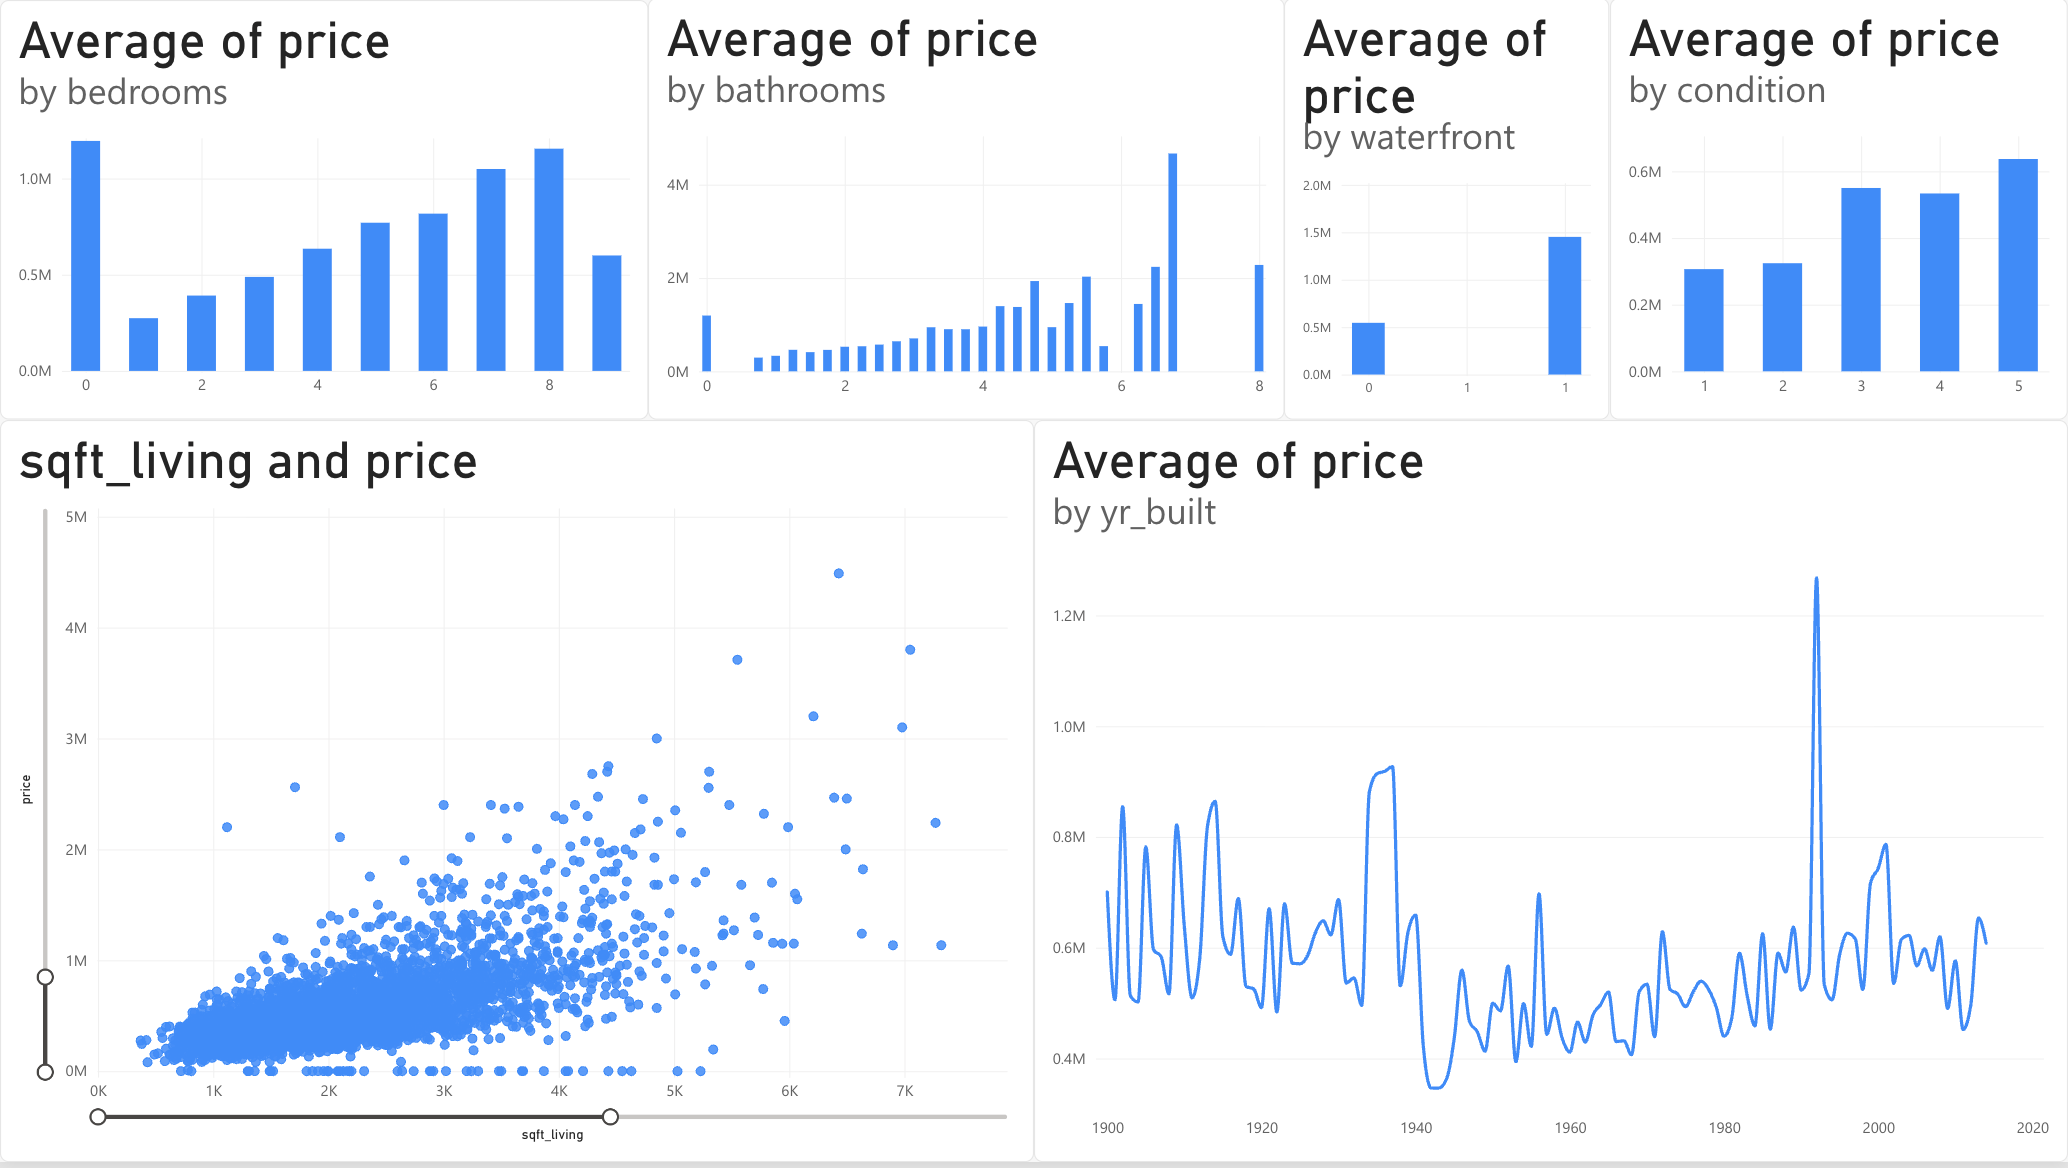

The dashboard page shown, as its layout file describes it:
{"tool":"powerbi","page":{"name":"Property Analysis","canvas":[1920,1080],"ordinal":1},"visuals":[{"type":"clusteredColumnChart","fields":{"Category":["modified_data.bedrooms"],"Y":["Avg(modified_data.price)"]},"box":[0,2.2,602,389.4],"z":0},{"type":"clusteredColumnChart","fields":{"Category":["modified_data.bathrooms"],"Y":["Avg(modified_data.price)"]},"box":[602,0,590.8,391.6],"z":1},{"type":"scatterChart","fields":{"X":["modified_data.sqft_living"],"Y":["modified_data.price"]},"box":[0,391.6,960,689.2],"z":2},{"type":"clusteredColumnChart","fields":{"Category":["modified_data.waterfront"],"Y":["Avg(modified_data.price)"]},"box":[1192.7,0,302.1,391.6],"z":3},{"type":"clusteredColumnChart","fields":{"Category":["modified_data.condition"],"Y":["Avg(modified_data.price)"]},"box":[1494.8,0,425.2,391.6],"z":4},{"type":"lineChart","fields":{"Category":["modified_data.yr_built"],"Y":["Avg(modified_data.price)"]},"box":[960,391.6,960,689.2],"z":5}]}

Visuals, with their boxes in screenshot pixels (x1, y1, x2, y2), scaled from the page's 1920x1080 canvas onto the 2068x1168 screenshot:
clusteredColumnChart - modified_data.bedrooms x Avg(modified_data.price): select_region(0, 2, 648, 424)
clusteredColumnChart - modified_data.bathrooms x Avg(modified_data.price): select_region(648, 0, 1285, 424)
scatterChart - modified_data.sqft_living x modified_data.price: select_region(0, 424, 1034, 1167)
clusteredColumnChart - modified_data.waterfront x Avg(modified_data.price): select_region(1285, 0, 1610, 424)
clusteredColumnChart - modified_data.condition x Avg(modified_data.price): select_region(1610, 0, 2067, 424)
lineChart - modified_data.yr_built x Avg(modified_data.price): select_region(1034, 424, 2067, 1167)
